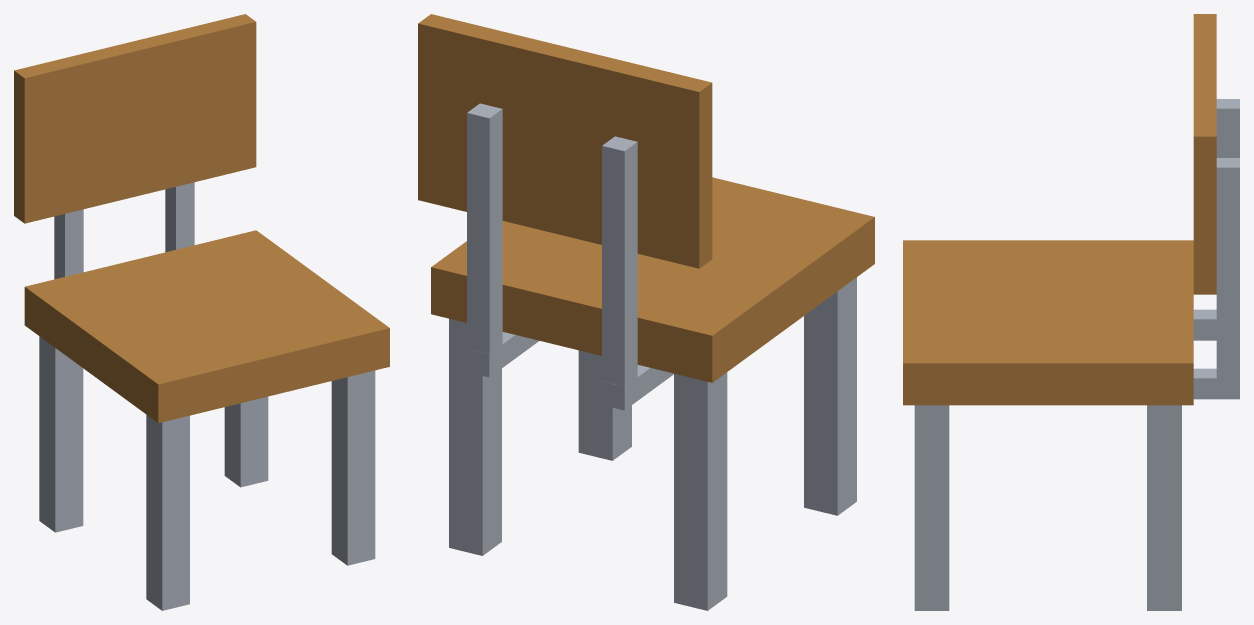
The model's file is Chair.fbx.
3 views of the same model, side by side, from view 1: azimuth 30°, elevation 25°; view 2: azimuth 150°, elevation 25°; view 3: azimuth 270°, elevation 25° (orthographic). The views are drawn at different scales.
Visible parts, largest first — view 1: pCube5, pCube10, pCube2, pCube1, pCube4, pCube3, pCube9, pCube8; view 2: pCube10, pCube5, pCube4, pCube1, pCube3, pCube8, pCube9, pCube2, pCube7, pCube6; view 3: pCube5, pCube2, pCube3, pCube10, pCube8, pCube9, pCube6, pCube7.
Part boxes in pixels (bbox=[...]): pCube5: bbox=[24, 230, 389, 423]; pCube10: bbox=[14, 14, 256, 223]; pCube2: bbox=[331, 370, 375, 565]; pCube1: bbox=[146, 415, 189, 610]; pCube4: bbox=[39, 336, 83, 532]; pCube3: bbox=[224, 396, 268, 487]; pCube9: bbox=[54, 209, 83, 279]; pCube8: bbox=[165, 182, 194, 252]; pCube10: bbox=[418, 14, 712, 268]; pCube5: bbox=[431, 177, 874, 382]; pCube4: bbox=[674, 372, 727, 610]; pCube1: bbox=[804, 277, 856, 515]; pCube3: bbox=[449, 318, 501, 555]; pCube8: bbox=[467, 103, 502, 353]; pCube9: bbox=[602, 136, 637, 386]; pCube2: bbox=[578, 350, 631, 460]; pCube7: bbox=[602, 365, 673, 410]; pCube6: bbox=[467, 332, 539, 377]; pCube5: bbox=[903, 240, 1193, 405]; pCube2: bbox=[914, 405, 949, 610]; pCube3: bbox=[1147, 405, 1181, 610]; pCube10: bbox=[1193, 14, 1216, 294]; pCube8: bbox=[1216, 158, 1239, 378]; pCube9: bbox=[1216, 99, 1239, 157]; pCube6: bbox=[1193, 368, 1239, 399]; pCube7: bbox=[1193, 309, 1216, 340].
Size of the model in its own units: 125 by 228 by 145.
